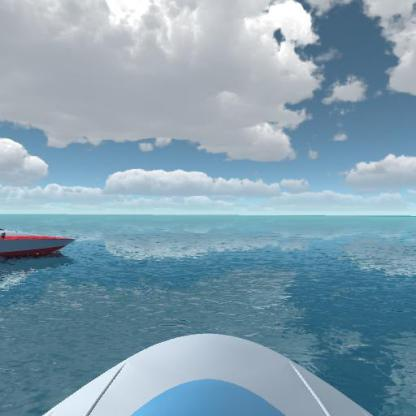usv3: (0, 221, 77, 267)
